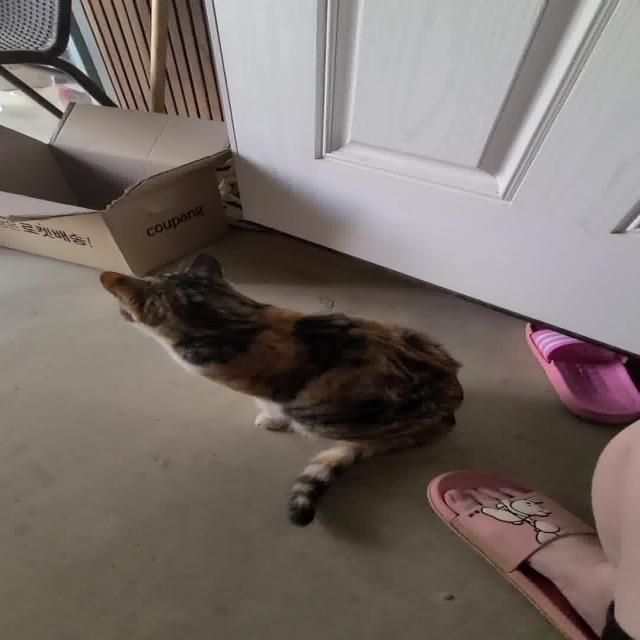cat: (90, 247, 463, 527)
